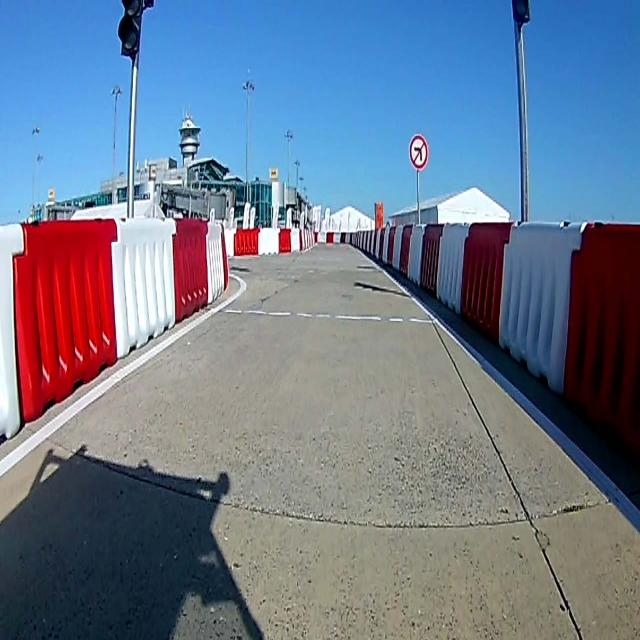soladonulmez: (409, 135, 428, 170)
